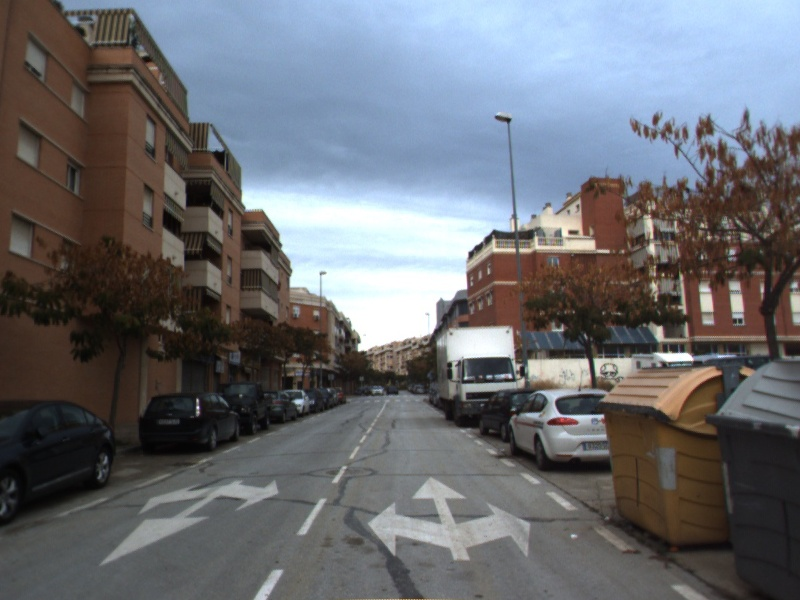STRAIGHT_LEFT_RIGHT: (364, 473, 534, 562)
